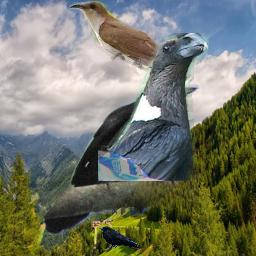Crow: (43, 82, 199, 235), (98, 33, 209, 181), (98, 226, 141, 250)
Cuckoo: (67, 1, 167, 74)
